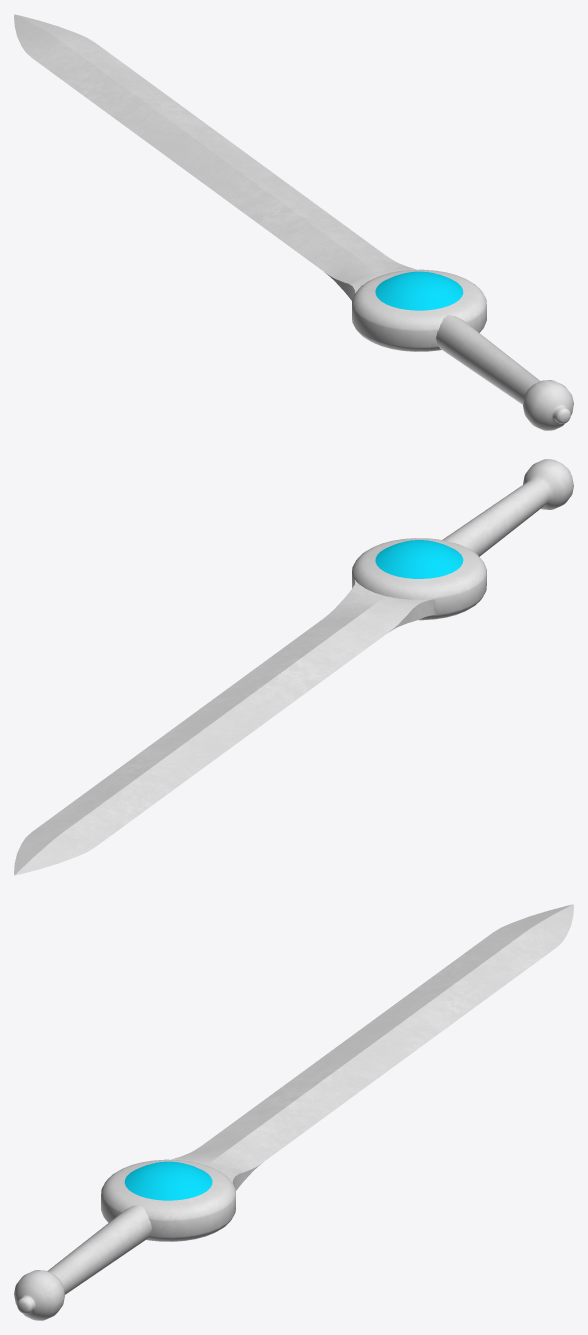
Rendered from thefinnsword - Textures.gltf.
3 views of the same model, one above another, from view 1: azimuth 30°, elevation 25°; view 2: azimuth 150°, elevation 25°; view 3: azimuth 330°, elevation 25° (orthographic).
Parts seen in each view (by area): view 1: Cylinder; view 2: Cylinder; view 3: Cylinder.
Part boxes in pixels (left/top/right/bottom): Cylinder: left=14, top=14, right=573, bottom=430; Cylinder: left=14, top=459, right=573, bottom=875; Cylinder: left=14, top=904, right=573, bottom=1320.
Bounding box in the file's own units: 1.54 × 0.8077 × 12.53.
Materials: 1 (1 with a texture image).
